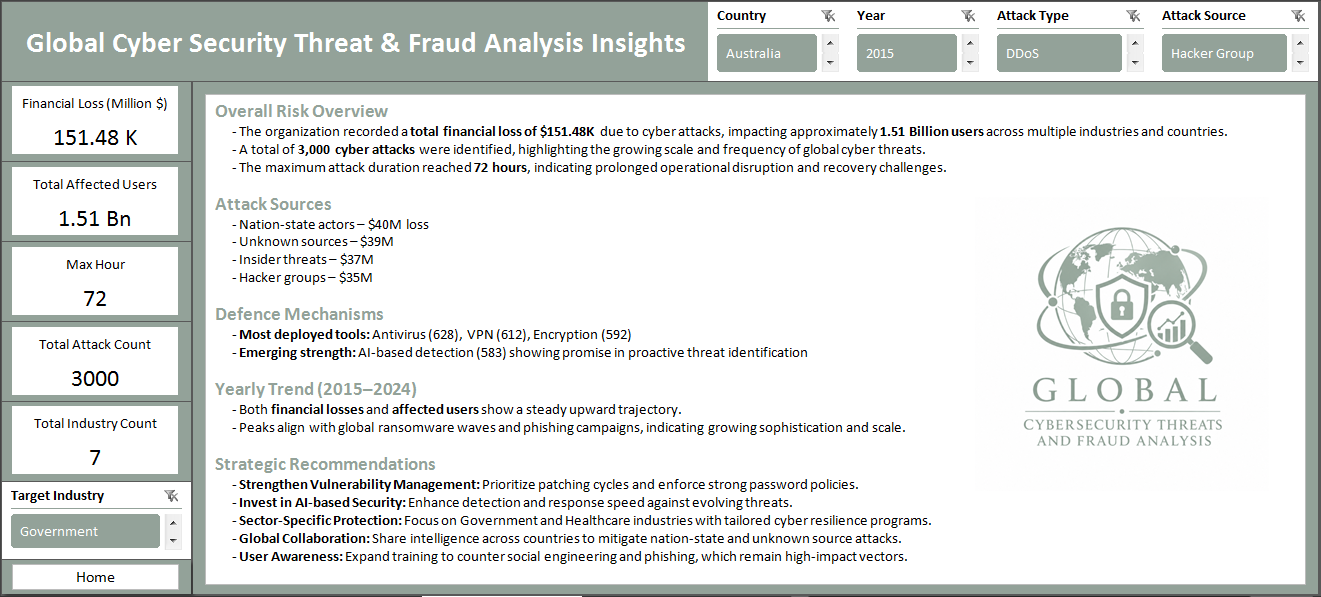

Layout of this report page (visuals, bound fields, positions):
{"tool":"powerbi","page":{"name":"Cyber Attack Analysis & Trends Insighs","canvas":[3300,1800],"ordinal":1},"visuals":[{"type":"shape","box":[4,4,1646.3,226.7],"z":0},{"type":"shape","box":[4.3,238.3,595.8,234.7],"z":0,"group":"g1"},{"type":"shape","box":[604.4,238.6,2688.1,1554.8],"z":0,"group":"g2"},{"type":"group","id":"g1","title":"Group 1","box":[4.3,238.3,595.8,234.7],"z":1000,"group":"g3"},{"type":"group","id":"g2","title":"Group 1","box":[604.4,238.6,2688.1,1554.8],"z":1000},{"type":"cardVisual","fields":{"Data":["Attack_desc.Financial Loss (Million $)"]},"box":[39.8,259.6,524.8,188.4],"z":1000,"group":"g1"},{"type":"shape","box":[4.3,476.9,595.8,238.6],"z":1000,"group":"g4"},{"type":"group","id":"g3","title":"Group 6","box":[4.3,238.3,596.9,1192.2],"z":2000},{"type":"group","id":"g4","title":"Group 2","box":[4.3,476.9,595.8,238.6],"z":2000,"group":"g3"},{"type":"shape","box":[4.3,719.6,595.8,234.7],"z":2000,"group":"g5"},{"type":"textbox","box":[39.8,47.7,1610.5,147.1],"z":3000},{"type":"group","id":"g5","title":"Group 3","box":[4.3,719.6,595.8,234.7],"z":3000,"group":"g3"},{"type":"group","id":"g6","title":"Group 4","box":[4.3,958.2,595.8,234.7],"z":4000,"group":"g3"},{"type":"shape","box":[4.3,958.2,595.8,234.7],"z":4000,"group":"g6"},{"type":"advancedSlicerVisual","fields":{"Values":["Global_Cybersecurity_Threats.Target Industry"]},"box":[4,1435.5,596.5,202.8],"z":4000},{"type":"advancedSlicerVisual","fields":{"Values":["Global_Cybersecurity_Threats.Country"]},"box":[1658.2,4,405.6,226.7],"z":5000},{"type":"group","id":"g7","title":"Group 5","box":[5.4,1195.8,595.8,234.7],"z":5000,"group":"g3"},{"type":"advancedSlicerVisual","fields":{"Values":["Global_Cybersecurity_Threats.Year"]},"box":[2067.8,4,405.6,226.7],"z":6000},{"type":"shape","box":[5.4,1195.8,595.8,234.7],"z":6000,"group":"g7"},{"type":"advancedSlicerVisual","fields":{"Values":["Attack_desc.Attack Type"]},"box":[2477.4,4,405.6,226.7],"z":7000},{"type":"shape","box":[5.1,1646.9,594.9,146.9],"z":7000,"group":"g8"},{"type":"advancedSlicerVisual","fields":{"Values":["Global_Cybersecurity_Threats.Attack Source"]},"box":[2887,4,405.6,226.7],"z":8000},{"type":"cardVisual","fields":{"Data":["Attack_desc.Total Affected Users"]},"box":[39.8,502.2,524.8,191.6],"z":9000,"group":"g4"},{"type":"group","id":"g8","title":"Group 7","box":[5.1,1646.9,594.9,146.9],"z":9000},{"type":"cardVisual","fields":{"Data":["Attack_desc.Max Hour"]},"box":[39.8,740.9,524.8,188.4],"z":9501,"group":"g5"},{"type":"textbox","box":[656.1,286.3,2584.7,1467.3],"z":10000},{"type":"cardVisual","fields":{"Data":["Attack_desc.Total Attact Count"]},"box":[39.8,979.5,524.8,188.4],"z":10001,"group":"g6"},{"type":"cardVisual","fields":{"Data":["Attack_desc.Total Industry Count"]},"box":[40.9,1217.1,524.8,188.4],"z":10501,"group":"g7"},{"type":"image","box":[2632.5,719.8,576.6,513],"z":11500},{"type":"actionButton","title":"Insights","box":[40,1664.2,524.2,110.5],"z":15001,"group":"g8"}]}

Visuals, with their boxes on the page's 3300x1800 design canvas (x1, y1, x2, y2). These are canvas units, not pixel positions in the 1321x597 screenshot, which may show the page scaled, cropped or inside an application window:
shape: x1=4, y1=4, x2=1650, y2=231
shape: x1=4, y1=238, x2=600, y2=473
shape: x1=604, y1=239, x2=3292, y2=1793
"Group 1" group: x1=4, y1=238, x2=600, y2=473
"Group 1" group: x1=604, y1=239, x2=3292, y2=1793
cardVisual - Attack_desc.Financial Loss (Million $): x1=40, y1=260, x2=565, y2=448
shape: x1=4, y1=477, x2=600, y2=716
"Group 6" group: x1=4, y1=238, x2=601, y2=1430
"Group 2" group: x1=4, y1=477, x2=600, y2=716
shape: x1=4, y1=720, x2=600, y2=954
textbox: x1=40, y1=48, x2=1650, y2=195
"Group 3" group: x1=4, y1=720, x2=600, y2=954
"Group 4" group: x1=4, y1=958, x2=600, y2=1193
shape: x1=4, y1=958, x2=600, y2=1193
advancedSlicerVisual - Global_Cybersecurity_Threats.Target Industry: x1=4, y1=1436, x2=600, y2=1638
advancedSlicerVisual - Global_Cybersecurity_Threats.Country: x1=1658, y1=4, x2=2064, y2=231
"Group 5" group: x1=5, y1=1196, x2=601, y2=1430
advancedSlicerVisual - Global_Cybersecurity_Threats.Year: x1=2068, y1=4, x2=2473, y2=231
shape: x1=5, y1=1196, x2=601, y2=1430
advancedSlicerVisual - Attack_desc.Attack Type: x1=2477, y1=4, x2=2883, y2=231
shape: x1=5, y1=1647, x2=600, y2=1794
advancedSlicerVisual - Global_Cybersecurity_Threats.Attack Source: x1=2887, y1=4, x2=3293, y2=231
cardVisual - Attack_desc.Total Affected Users: x1=40, y1=502, x2=565, y2=694
"Group 7" group: x1=5, y1=1647, x2=600, y2=1794
cardVisual - Attack_desc.Max Hour: x1=40, y1=741, x2=565, y2=929
textbox: x1=656, y1=286, x2=3241, y2=1754
cardVisual - Attack_desc.Total Attact Count: x1=40, y1=980, x2=565, y2=1168
cardVisual - Attack_desc.Total Industry Count: x1=41, y1=1217, x2=566, y2=1406
image: x1=2632, y1=720, x2=3209, y2=1233
"Insights" actionButton: x1=40, y1=1664, x2=564, y2=1775
